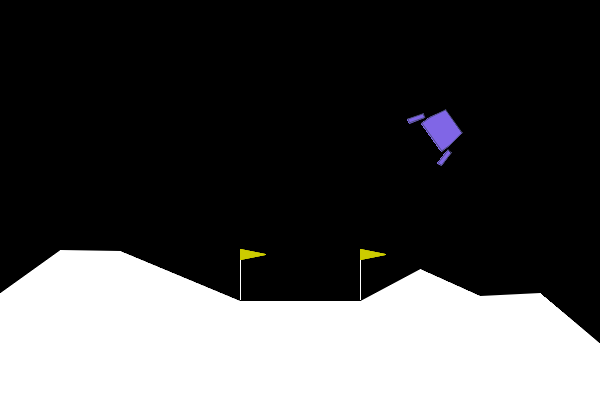lander: (405, 96, 473, 168)
